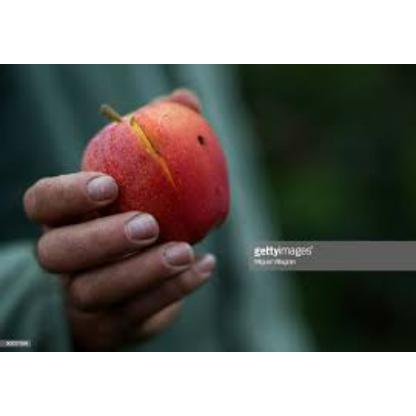apple: (78, 100, 235, 247)
